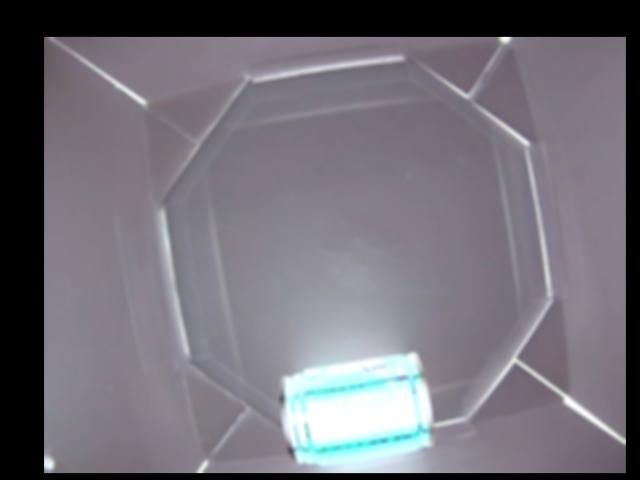Bottle: (275, 354, 434, 466)
